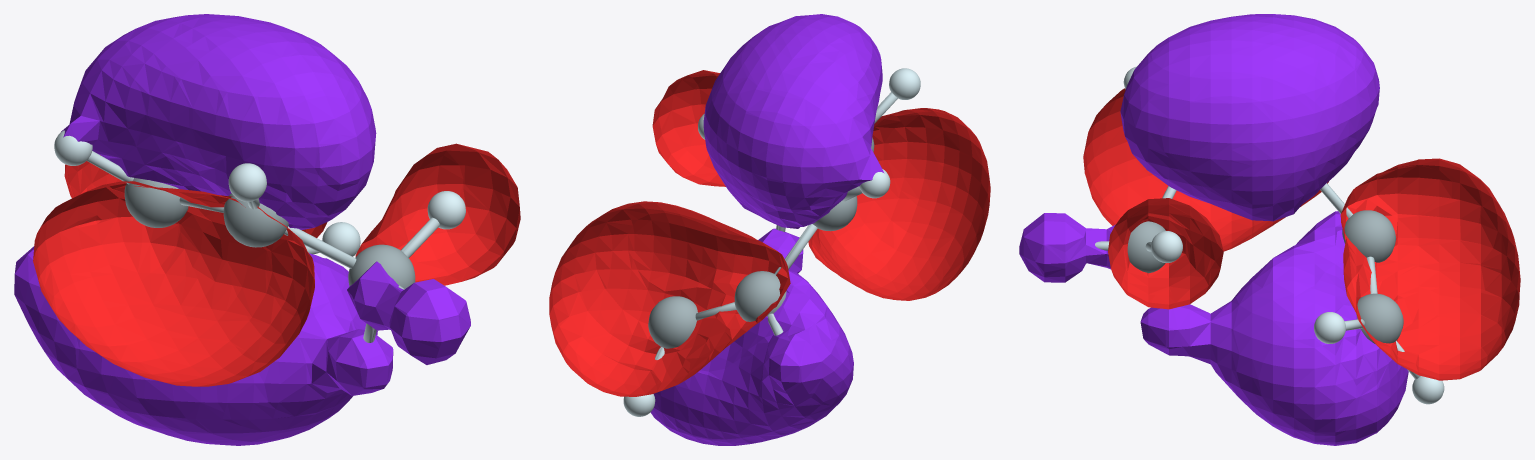
3 renders of one model, left to right at view 1: azimuth 30°, elevation 25°; view 2: azimuth 150°, elevation 25°; view 3: azimuth 270°, elevation 25°, orthographic. The views are drawn at different scales.
Parts seen in each view (by area): view 1: Renderer Node; view 2: Renderer Node; view 3: Renderer Node.
Boxes of the visible parts, x1=… form: Renderer Node: x1=14, y1=14, x2=520, y2=445; Renderer Node: x1=549, y1=14, x2=990, y2=445; Renderer Node: x1=1019, y1=14, x2=1520, y2=445.
Size of the model in its own units: 4.96 by 5.26 by 6.21.
